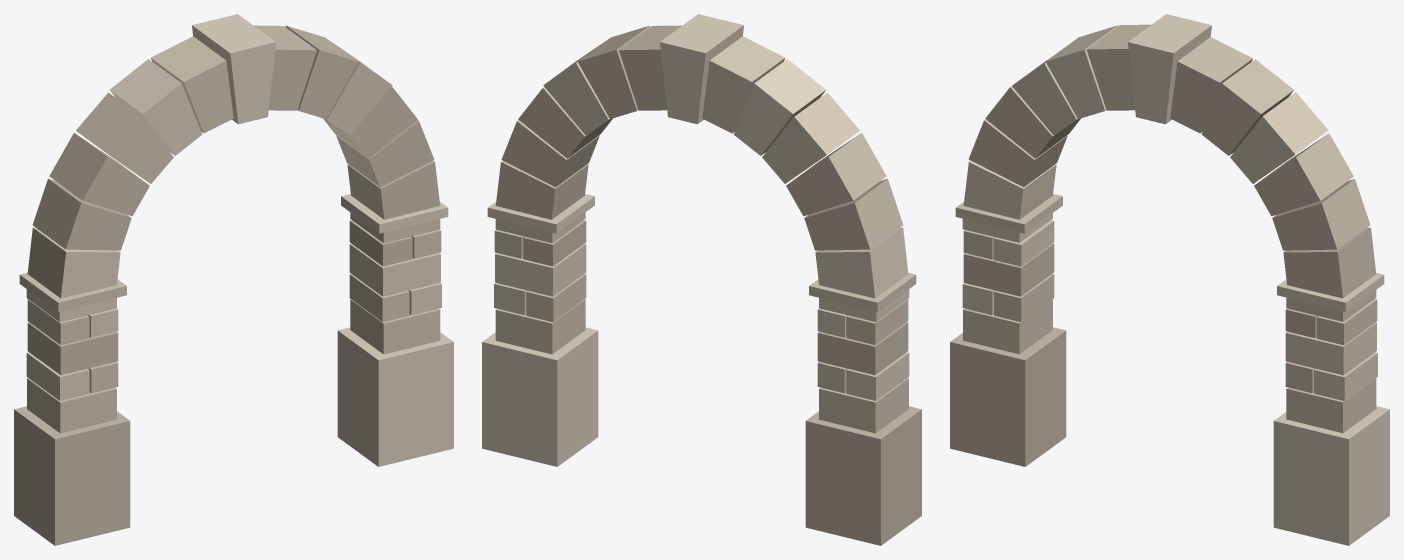
File: arch.glb
3 views of the same model, side by side, from view 1: azimuth 30°, elevation 25°; view 2: azimuth 150°, elevation 25°; view 3: azimuth 330°, elevation 25° (orthographic).
Visible parts, largest first — view 1: sandstone_1, sandstone_2, sandstone_0; view 2: sandstone_1, sandstone_2, sandstone_0; view 3: sandstone_1, sandstone_2, sandstone_0.
Part boxes in pixels (<box>): sandstone_1: <box>14,25,440,545</box>; sandstone_2: <box>26,14,453,466</box>; sandstone_0: <box>19,36,441,433</box>; sandstone_1: <box>495,25,921,545</box>; sandstone_2: <box>482,14,909,466</box>; sandstone_0: <box>494,36,916,433</box>; sandstone_1: <box>950,37,1376,466</box>; sandstone_2: <box>962,14,1389,545</box>; sandstone_0: <box>955,24,1377,433</box>.
Bounding box in the file's own units: 180 × 193 × 32.
